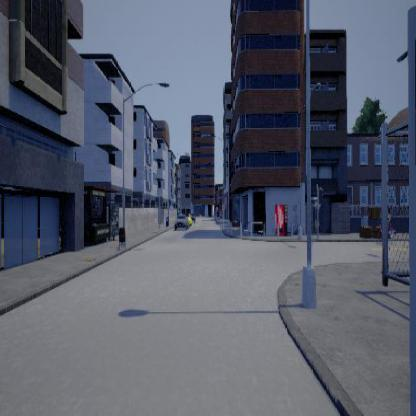vehicle: (174, 212, 195, 230)
